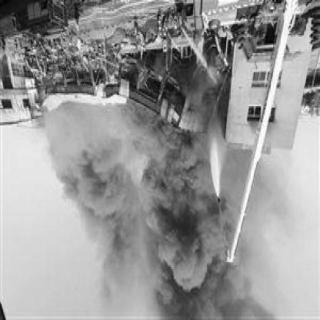Smoke: (48, 142, 282, 318)
